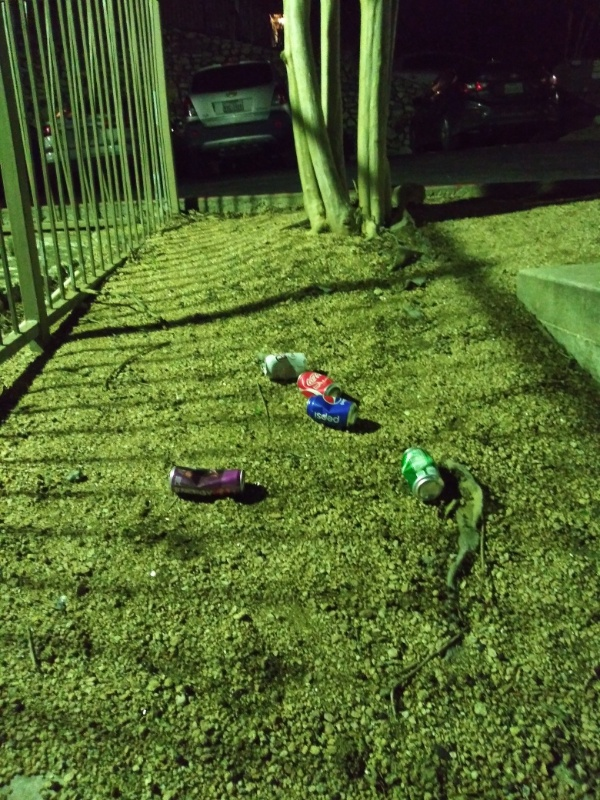can: (392, 441, 451, 506), (164, 460, 248, 501), (298, 387, 360, 428), (257, 349, 314, 386), (291, 365, 343, 403)
